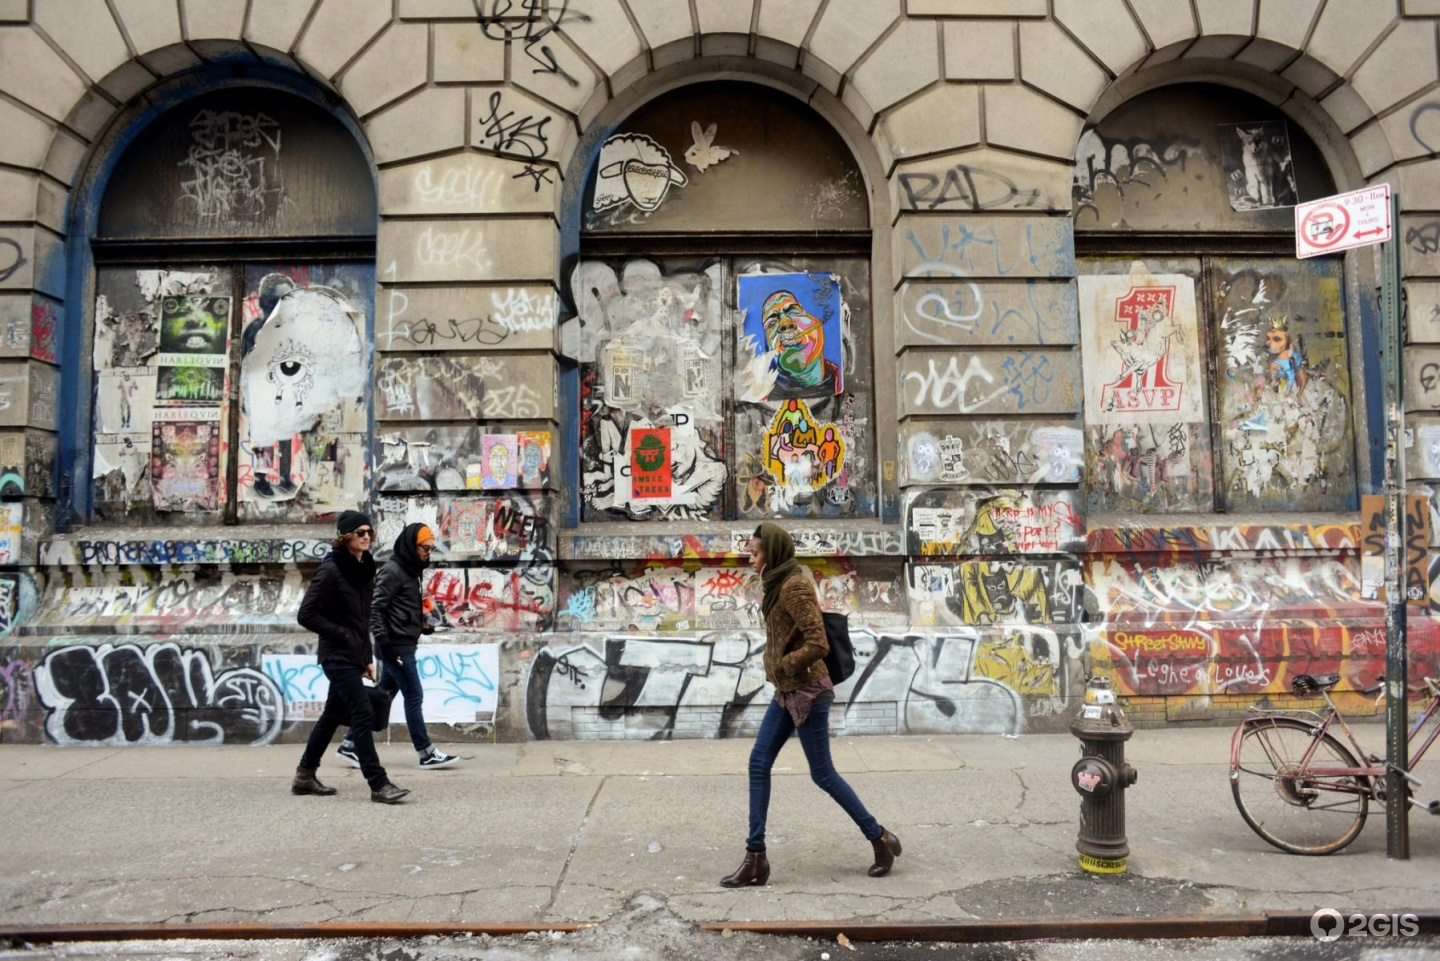graphite: (905, 234, 1057, 418), (1236, 304, 1357, 512), (537, 642, 772, 737), (967, 497, 1063, 703), (38, 637, 236, 735), (862, 640, 1014, 744), (175, 110, 301, 227), (728, 273, 842, 398), (1085, 281, 1188, 417), (597, 410, 721, 516), (909, 273, 1059, 354), (456, 90, 571, 193), (470, 1, 587, 97), (1075, 131, 1207, 213), (378, 430, 554, 488), (387, 293, 556, 353), (384, 358, 556, 416), (903, 159, 1050, 221), (922, 356, 1057, 423), (588, 128, 674, 230), (900, 223, 1069, 273), (1360, 504, 1438, 610), (676, 117, 769, 184)
